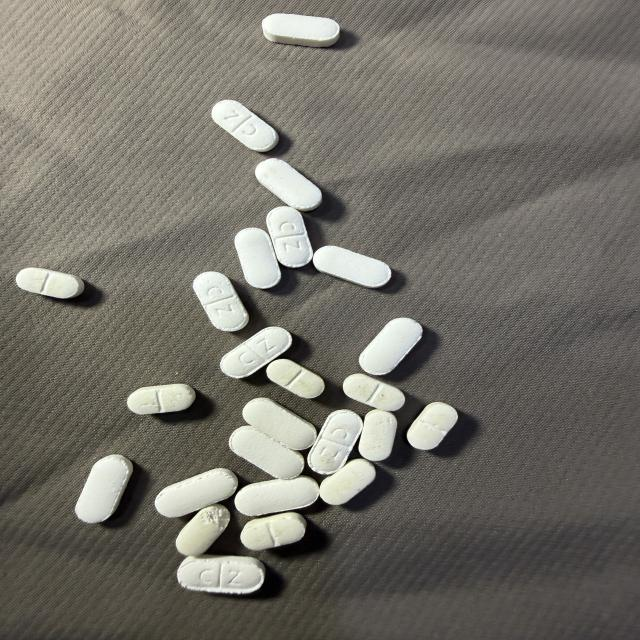pill: (155, 468, 237, 517), (229, 426, 304, 479), (75, 455, 132, 523), (243, 398, 316, 450), (221, 327, 292, 378), (359, 318, 422, 375), (308, 410, 362, 474), (212, 100, 278, 152), (256, 159, 321, 211), (235, 476, 318, 516), (178, 556, 265, 594), (313, 246, 391, 288), (193, 272, 248, 331), (235, 228, 281, 289), (267, 207, 313, 267), (176, 504, 230, 555), (262, 14, 339, 47), (320, 459, 375, 504), (241, 512, 306, 550), (407, 402, 457, 449), (343, 374, 405, 411), (267, 359, 324, 398), (16, 268, 84, 298), (127, 384, 195, 414), (359, 410, 397, 460)
